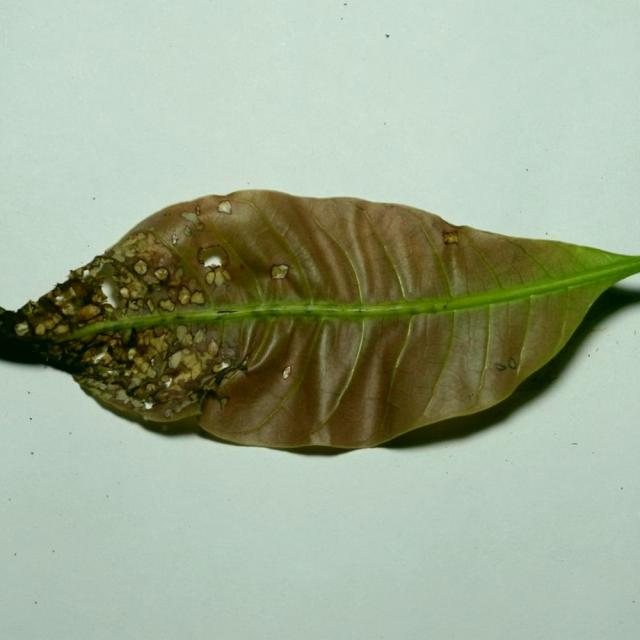Anthracnose: (72, 241, 215, 400), (7, 261, 121, 363), (166, 200, 273, 298), (105, 330, 179, 398), (111, 230, 178, 288), (77, 361, 139, 406), (150, 278, 216, 315), (166, 208, 210, 260), (111, 263, 150, 304), (53, 276, 96, 313), (24, 304, 57, 335), (168, 347, 200, 377), (176, 277, 206, 307), (80, 341, 114, 367), (203, 264, 231, 289), (146, 332, 169, 356), (75, 303, 103, 322), (179, 329, 199, 353), (180, 210, 201, 227), (132, 259, 149, 275), (138, 330, 153, 348), (177, 287, 191, 306), (141, 297, 156, 314), (158, 297, 175, 312), (124, 298, 139, 313), (153, 267, 169, 281), (165, 288, 178, 305), (119, 286, 131, 299)
Mango: (0, 190, 639, 458)
